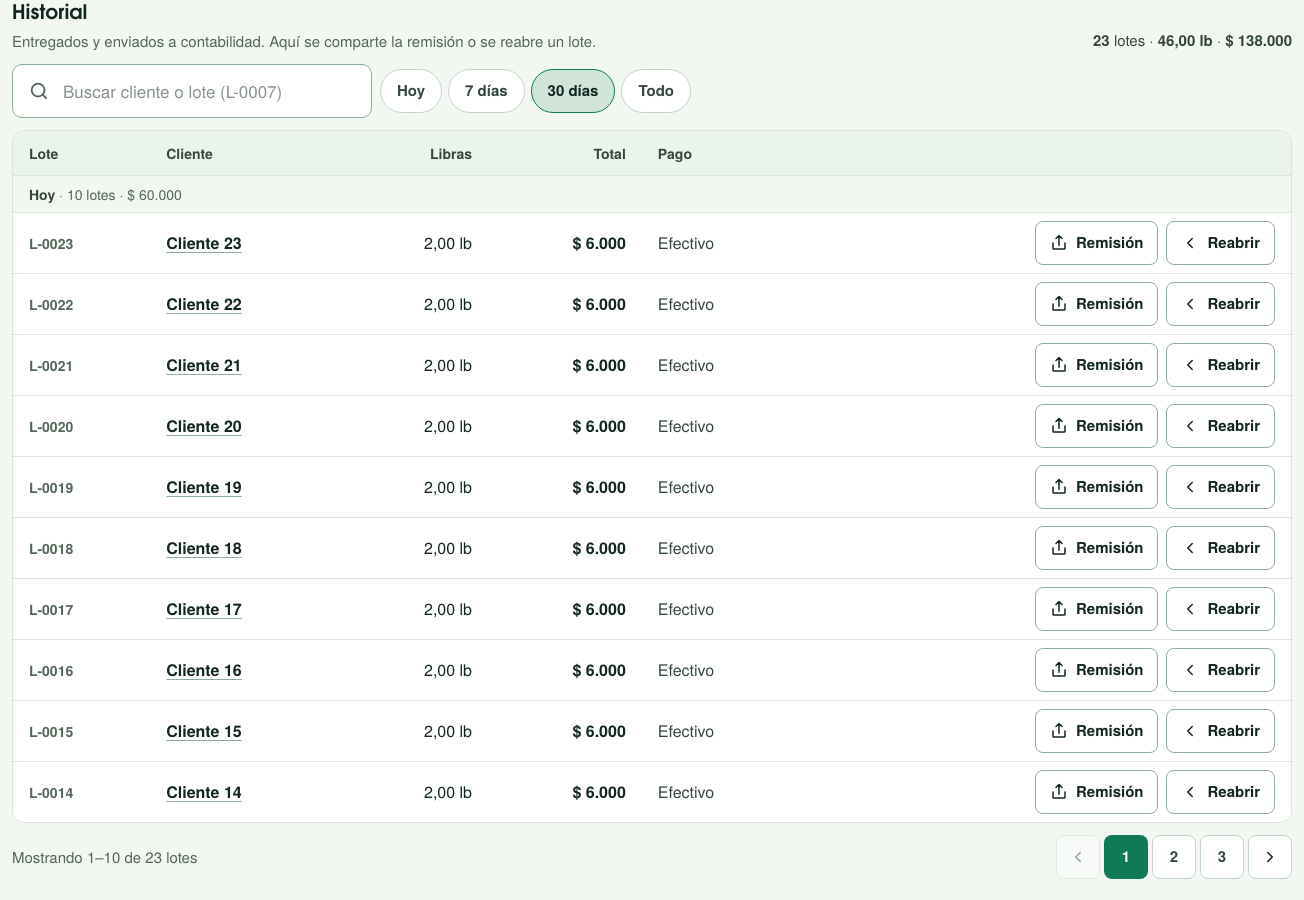
it: Historial › muestra 10 por página y pasa a la siguiente
The image size is (1304, 900).
Check: the text "Mostrando 1–10 de 23 lotes" is shown, box [12,846,198,868]
Check: the link "Cliente 23" is shown, box [166,231,242,254]
Click the button named "Página 3": (1222, 857) [1200,835,1244,879]
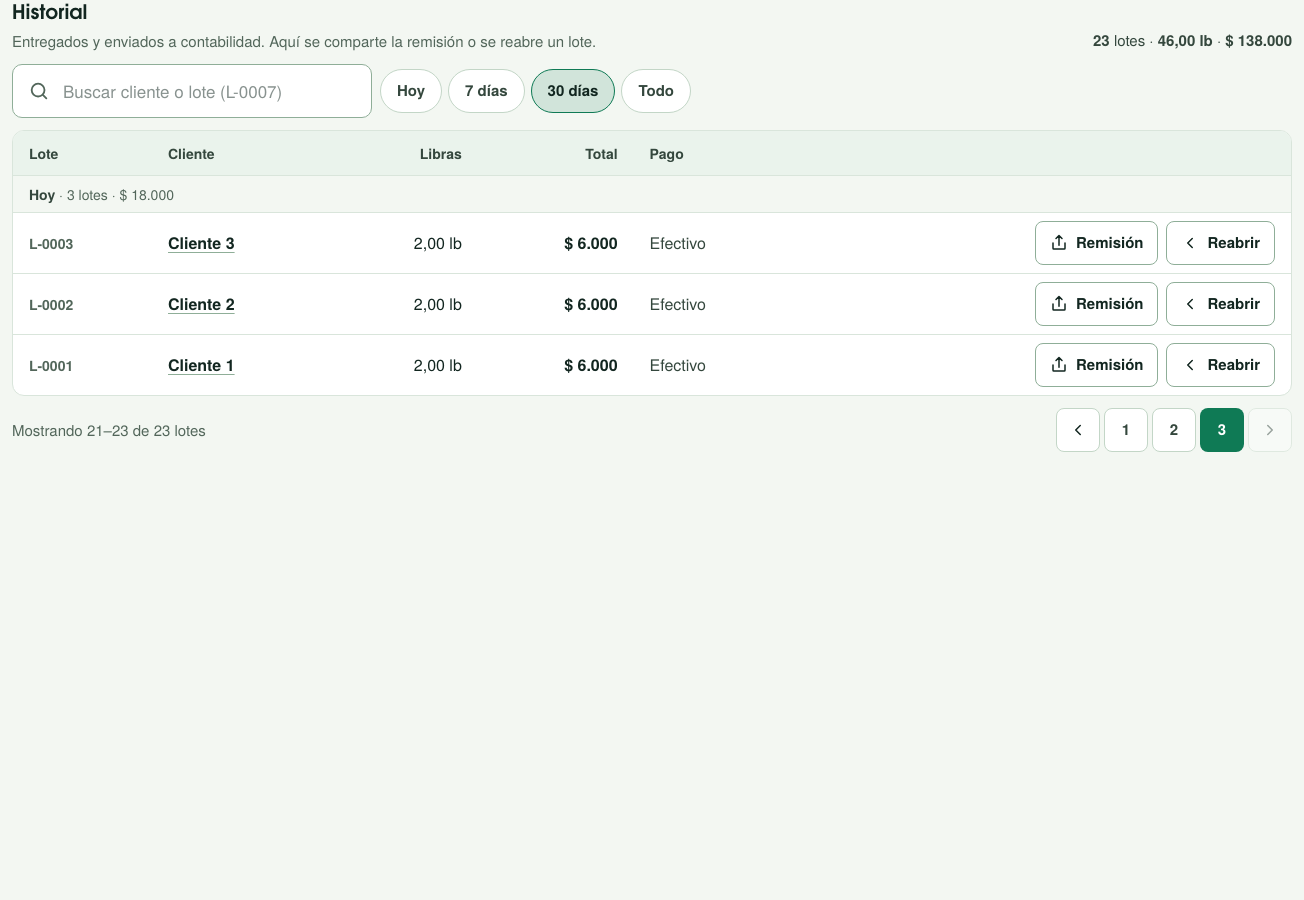
Check: the link "Cliente 1" is shown, box [168,353,235,376]
Check: the text "Mostrando 21–23 de 23 lotes" is shown, box [12,419,206,441]
Check: the button named "Página siguiente" is disabled, box [1248,408,1292,452]
